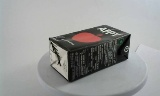appy: (43, 22, 123, 83)
